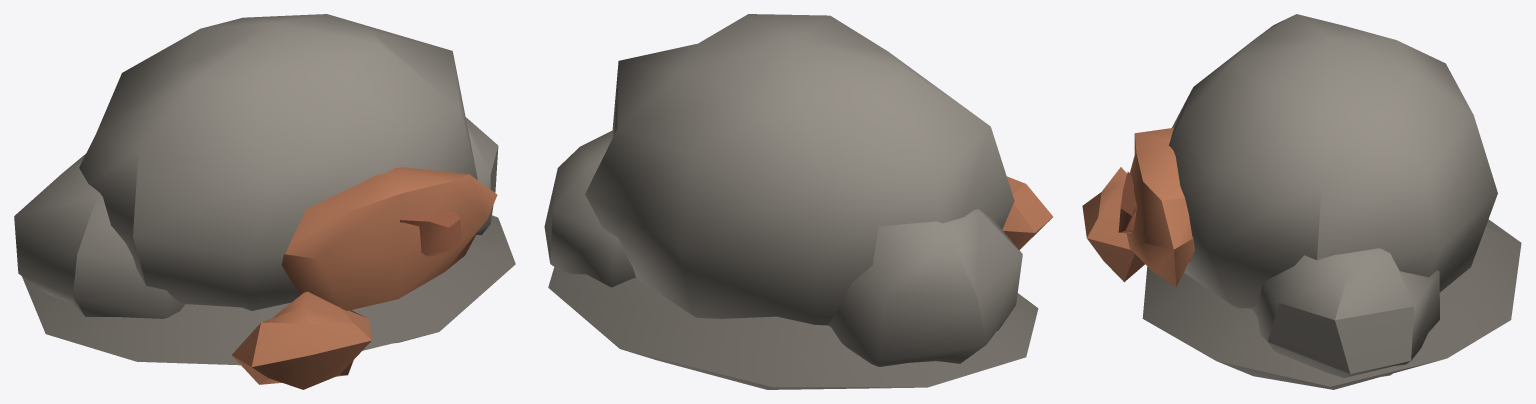
File: outcrop-rock_clay.glb
3 views of the same model, side by side, from view 1: azimuth 30°, elevation 25°; view 2: azimuth 150°, elevation 25°; view 3: azimuth 270°, elevation 25° (orthographic). The views are drawn at different scales.
Parts seen in each view (by area): view 1: outcrop-rock_clay; view 2: outcrop-rock_clay; view 3: outcrop-rock_clay.
Part boxes in pixels (x1,y1,x2,y2): outcrop-rock_clay: (14,14,515,389); outcrop-rock_clay: (544,14,1053,389); outcrop-rock_clay: (1082,14,1521,389).
Bounding box in the file's own units: 0.481 × 0.2903 × 0.4092.
